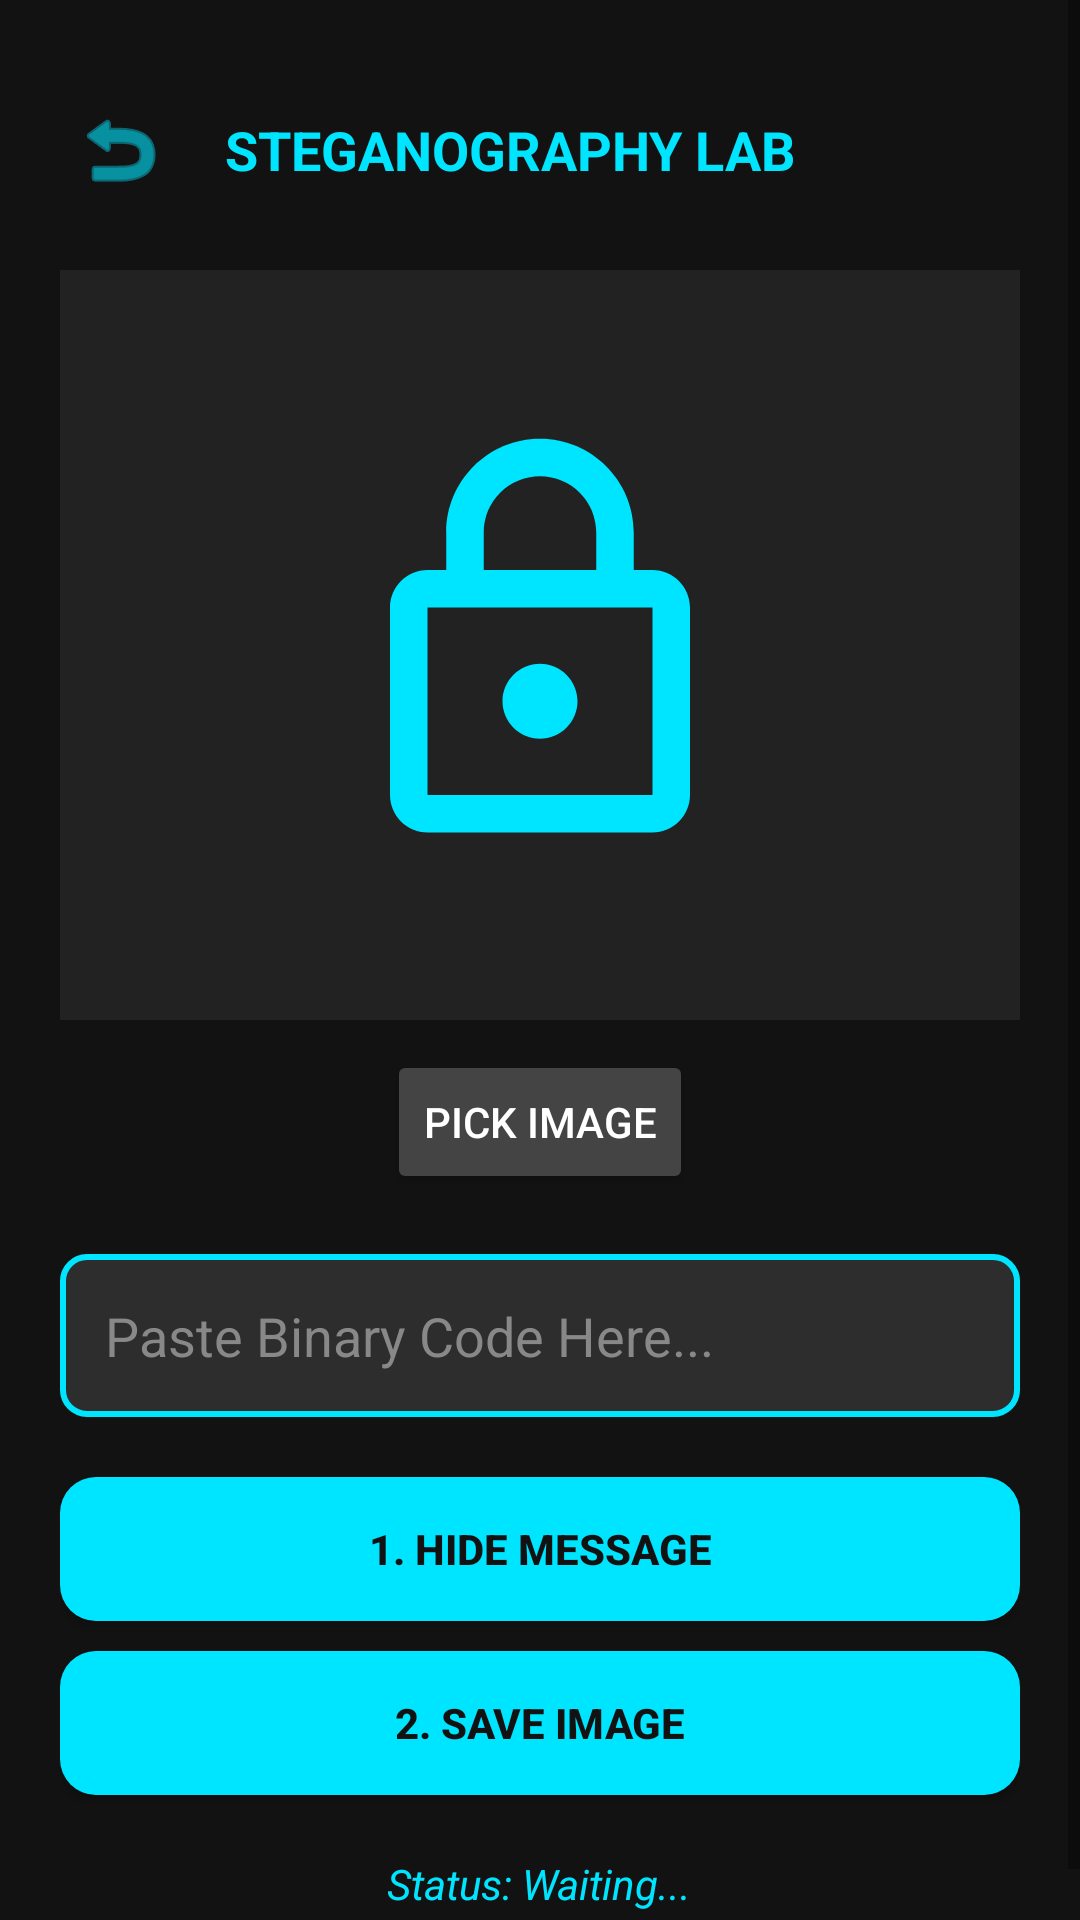

Point at icon controls on the screen. Image size 1080x1920, points as (x=x, y=y).
revert: (x=121, y=150)
